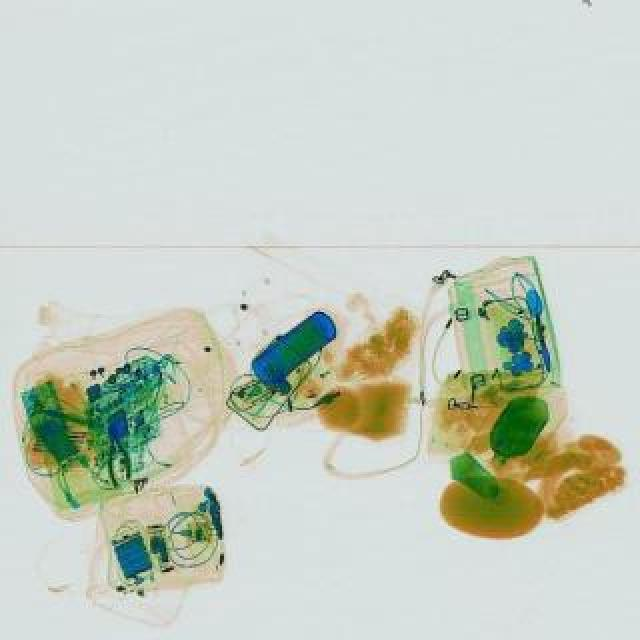wrench: (100, 422, 132, 488)
